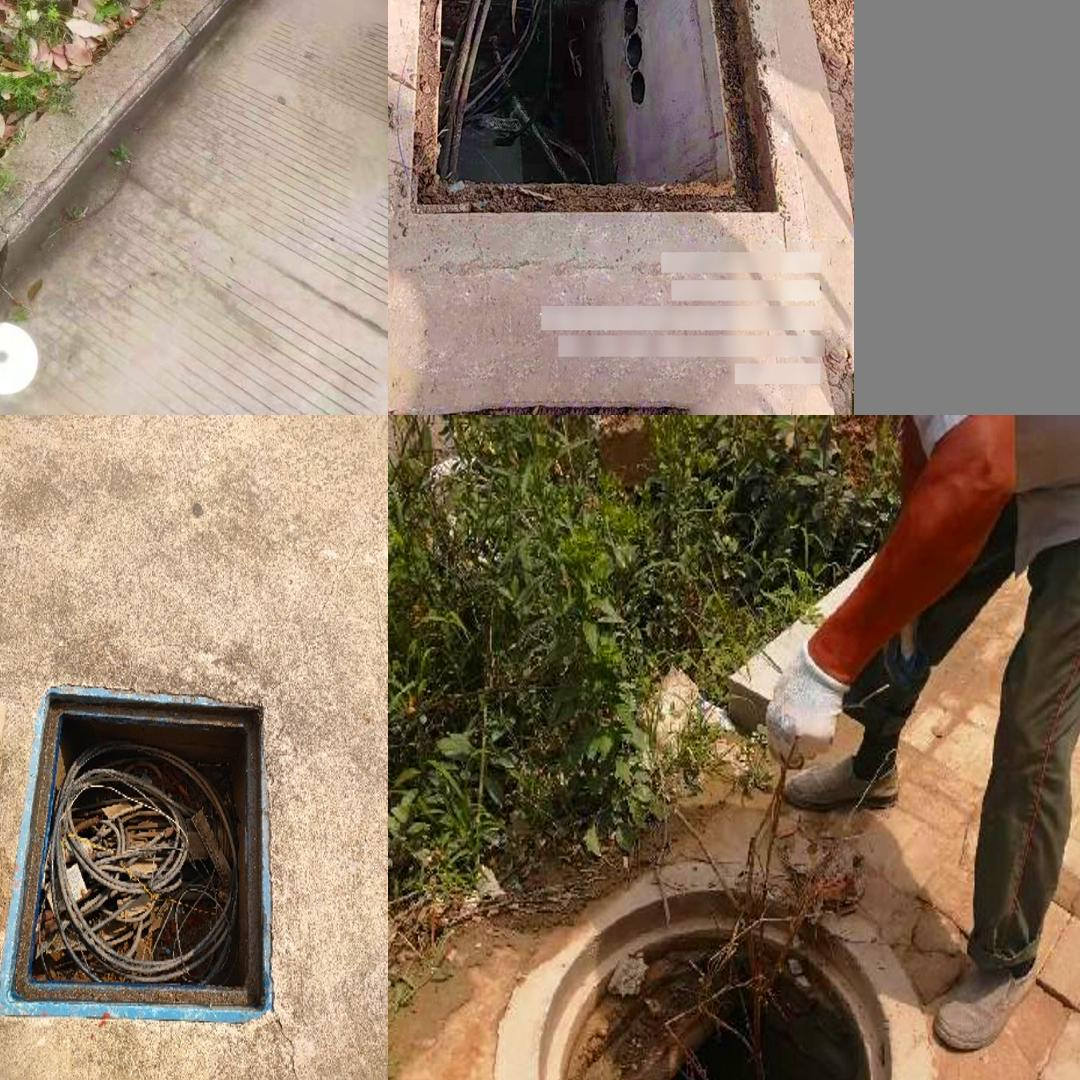lose: (388, 0, 815, 270), (496, 863, 929, 1080), (0, 685, 276, 1022)
